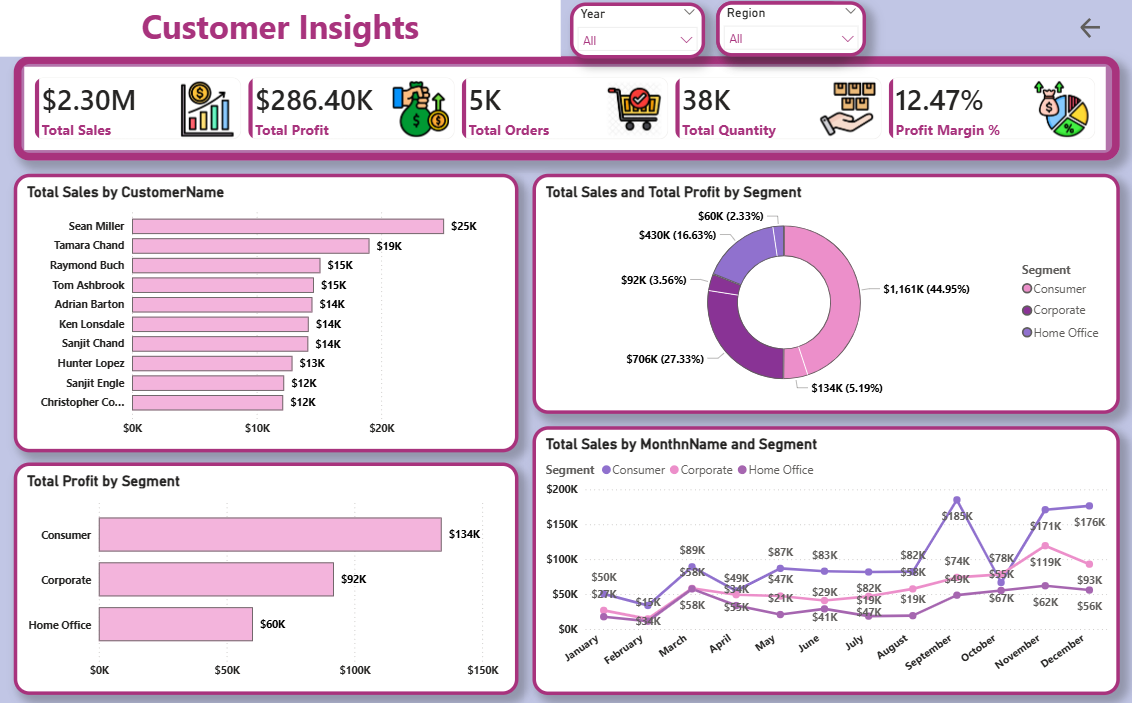

Layout of this report page (visuals, bound fields, positions):
{"tool":"powerbi","page":{"name":"Customer Insights","canvas":[1297,805],"ordinal":3},"visuals":[{"type":"cardVisual","fields":{"Data":["DimCustomer.Total Sales","DimCustomer.Total Profit","DimCustomer.Total Orders","DimCustomer.Total Quantity","DimCustomer.Profit Margin %"]},"box":[16.1,64.6,1264,119.2],"z":0},{"type":"textbox","box":[0,0,640.6,65.1],"z":1000},{"type":"slicer","fields":{"Values":["DimDate.Year"]},"box":[651.5,2.4,154.4,63.9],"z":2000},{"type":"slicer","fields":{"Values":["DimRegion.Region"]},"box":[818.4,1.3,147.8,63.5],"z":3000},{"type":"clusteredBarChart","fields":{"Category":["DimCustomer.CustomerName"],"Y":["DimCustomer.Total Sales"]},"box":[15.7,198.6,577.1,318.6],"z":4000},{"type":"donutChart","fields":{"Category":["DimCustomer.Segment"],"Y":["DimCustomer.Total Sales","DimCustomer.Total Profit"]},"box":[608.6,198.6,671.4,274.3],"z":5000},{"type":"clusteredBarChart","fields":{"Category":["DimCustomer.Segment"],"Y":["DimCustomer.Total Profit"]},"box":[15.7,528.6,577.1,265.7],"z":5001},{"type":"lineChart","fields":{"Category":["DimDate.MonthnName"],"Y":["DimCustomer.Total Sales"],"Series":["DimCustomer.Segment"]},"box":[608.6,487.1,671.4,307.1],"z":5002},{"type":"slicer","fields":{"Values":["DimRegion.Region"]},"box":[818.6,1.4,171.4,62.9],"z":5004},{"type":"actionButton","box":[1197.1,0,100,64.3],"z":5005}]}

Visuals, with their boxes in screenshot pixels (x1, y1, x2, y2), scaled from the page's 1297x805 canvas onto the 1132x703 screenshot:
cardVisual - DimCustomer.Total Sales x DimCustomer.Total Profit: bbox=[14, 56, 1117, 161]
textbox: bbox=[0, 0, 559, 57]
slicer - DimDate.Year: bbox=[569, 2, 703, 58]
slicer - DimRegion.Region: bbox=[714, 1, 843, 57]
clusteredBarChart - DimCustomer.CustomerName x DimCustomer.Total Sales: bbox=[14, 173, 517, 452]
donutChart - DimCustomer.Segment x DimCustomer.Total Sales: bbox=[531, 173, 1117, 413]
clusteredBarChart - DimCustomer.Segment x DimCustomer.Total Profit: bbox=[14, 462, 517, 694]
lineChart - DimDate.MonthnName x DimCustomer.Total Sales: bbox=[531, 425, 1117, 694]
slicer - DimRegion.Region: bbox=[714, 1, 864, 56]
actionButton: bbox=[1045, 0, 1131, 56]
